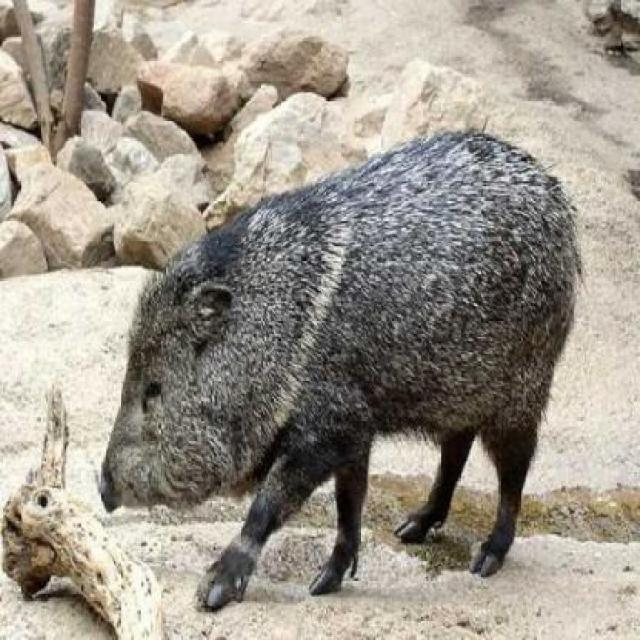pig: (37, 120, 639, 558)
